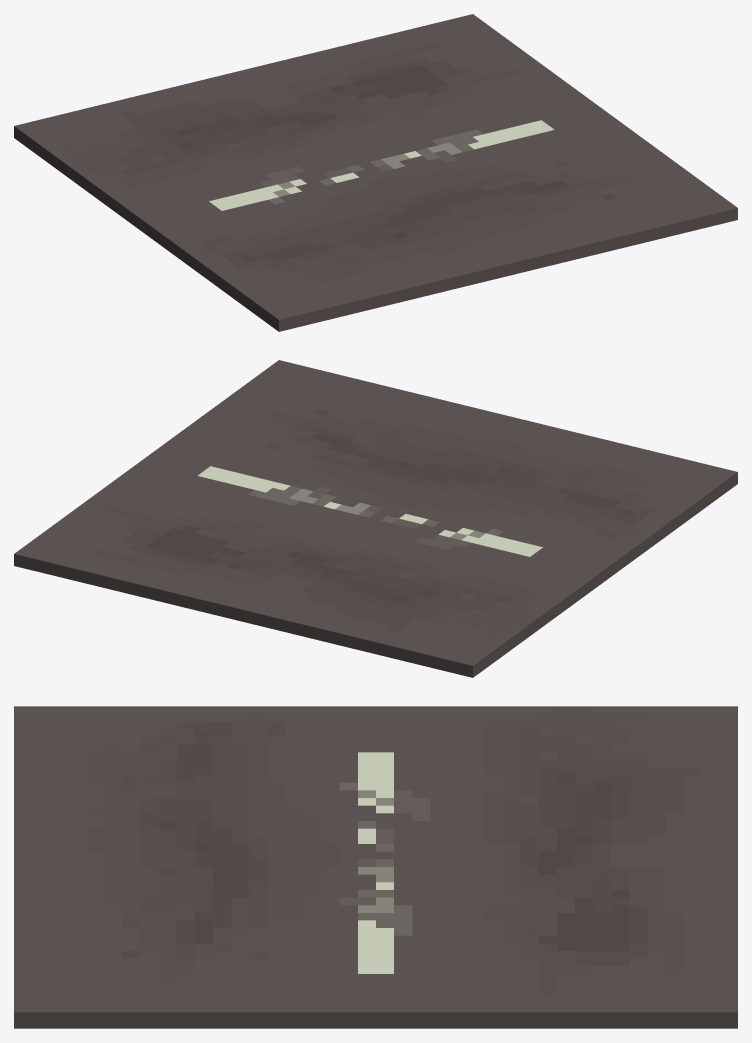
The model's file is Road2.obj.
3 views of the same model, one above another, from view 1: azimuth 30°, elevation 25°; view 2: azimuth 150°, elevation 25°; view 3: azimuth 270°, elevation 25° (orthographic). The views are drawn at different scales.
Size of the model in its own units: 4 by 0.1 by 4.
1 material, 1 textured.
